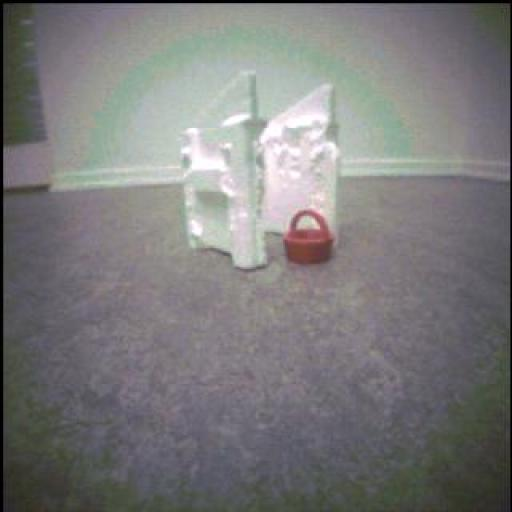Bucket: (284, 211, 334, 265)
